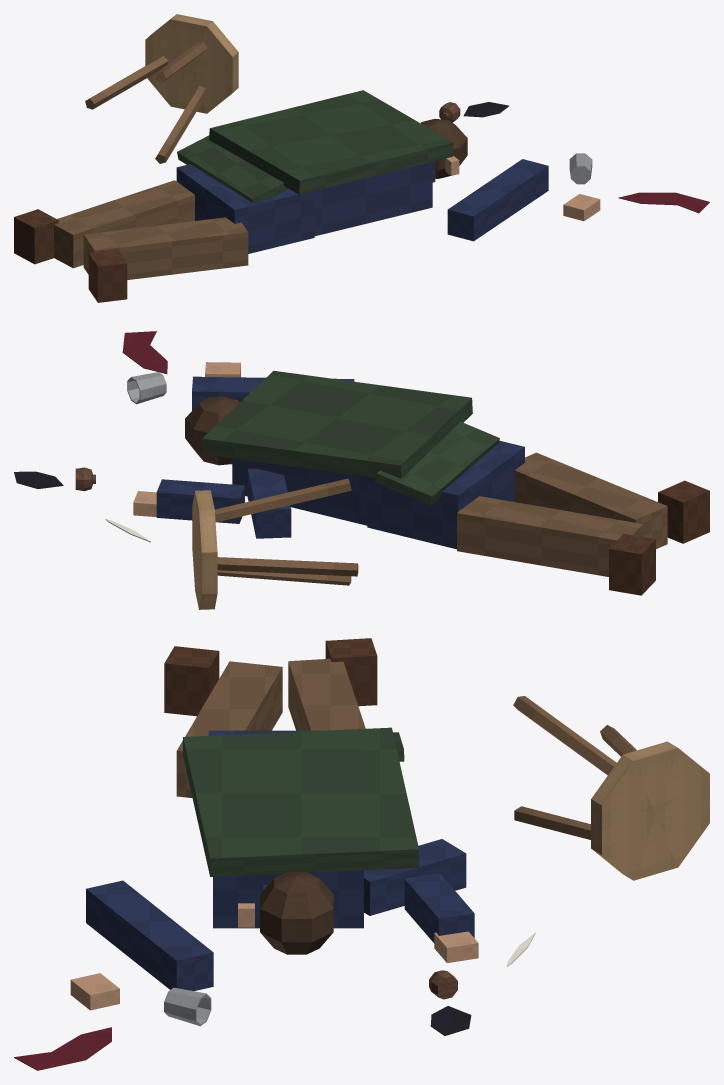
The model's file is body-scene-set.glb.
3 views of the same model, one above another, from view 1: azimuth 30°, elevation 25°; view 2: azimuth 150°, elevation 25°; view 3: azimuth 270°, elevation 25° (orthographic). The views are drawn at different scales.
Parts seen in each view (by area): view 1: figure, stool, cup, inkpot; view 2: figure, stool, cup, inkpot; view 3: figure, stool, cup, inkpot.
Boxes of the visible parts, x1,y1,x2,y2 form: figure: [14, 90, 600, 302]; stool: [85, 14, 238, 163]; cup: [569, 153, 709, 213]; inkpot: [439, 102, 508, 122]; figure: [133, 362, 709, 595]; stool: [192, 478, 358, 609]; cup: [122, 331, 167, 404]; inkpot: [14, 467, 150, 542]; figure: [70, 638, 478, 1010]; stool: [513, 696, 709, 880]; cup: [14, 987, 211, 1070]; inkpot: [429, 933, 535, 1035].
Bounding box in the file's own units: 2.16 × 0.3331 × 1.66.
Materials: 1 (1 with a texture image).
